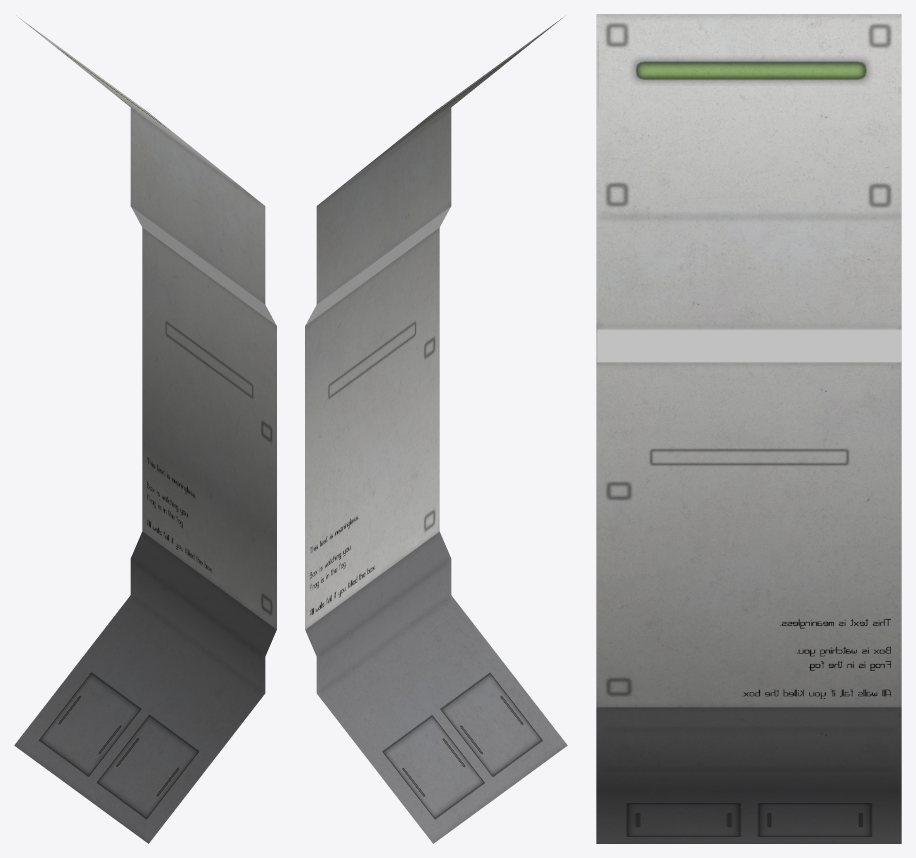
Rendered from wall2.fbx.
3 renders of one model, left to right at view 1: azimuth 30°, elevation 25°; view 2: azimuth 150°, elevation 25°; view 3: azimuth 270°, elevation 25°, orthographic. The views are drawn at different scales.
Parts seen in each view (by area): view 1: Cube; view 2: Cube; view 3: Cube.
Part boxes in pixels (x1,y1,x2,y2): Cube: [14, 15, 276, 843]; Cube: [305, 15, 567, 843]; Cube: [596, 14, 901, 843].
Size of the model in its own units: 1.1 by 6 by 2.
